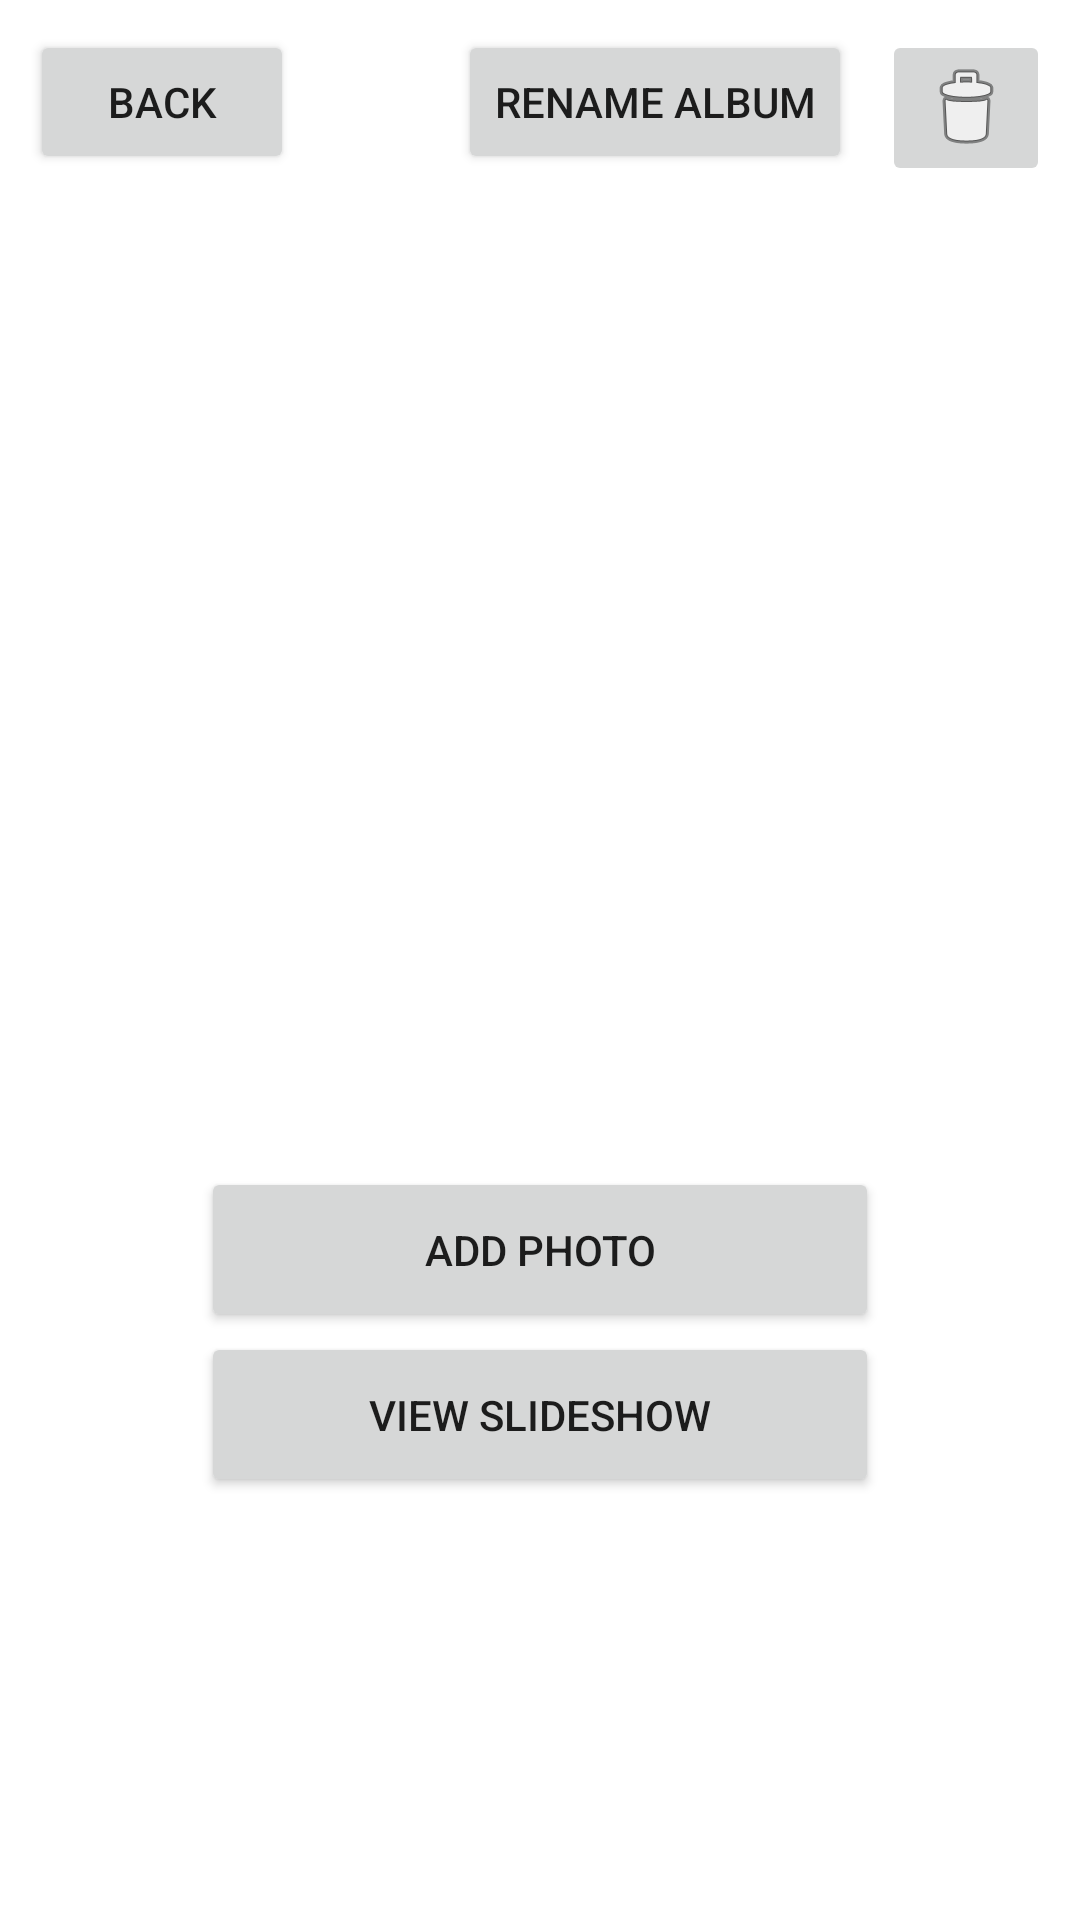

Named icons in this screenshot (1080 x 1920) and their bounding boxes, region(x1, y1, x2, y2):
Delete button: region(894, 48, 1038, 168)
